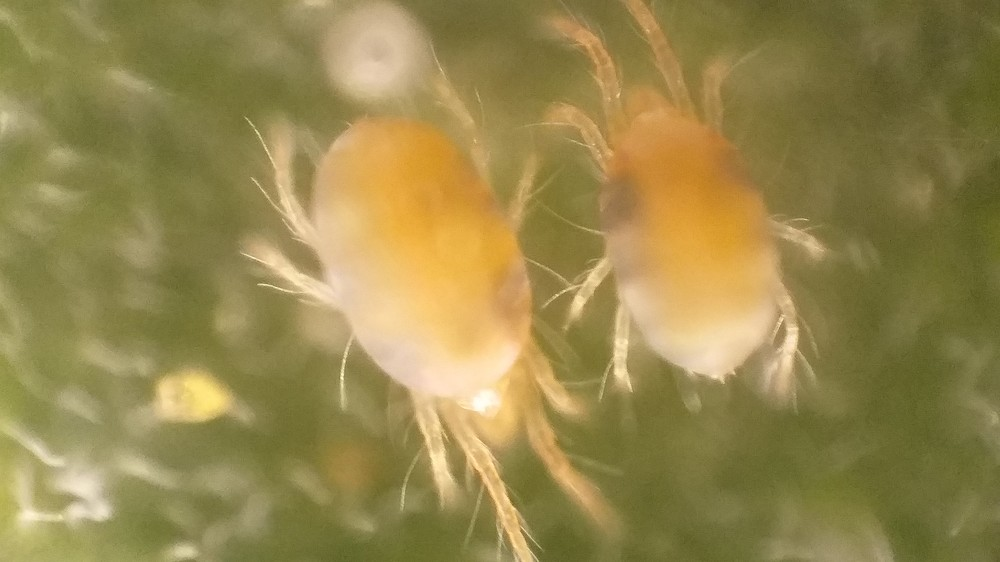Aracnido Rojo: (281, 94, 621, 554), (542, 13, 875, 446)
